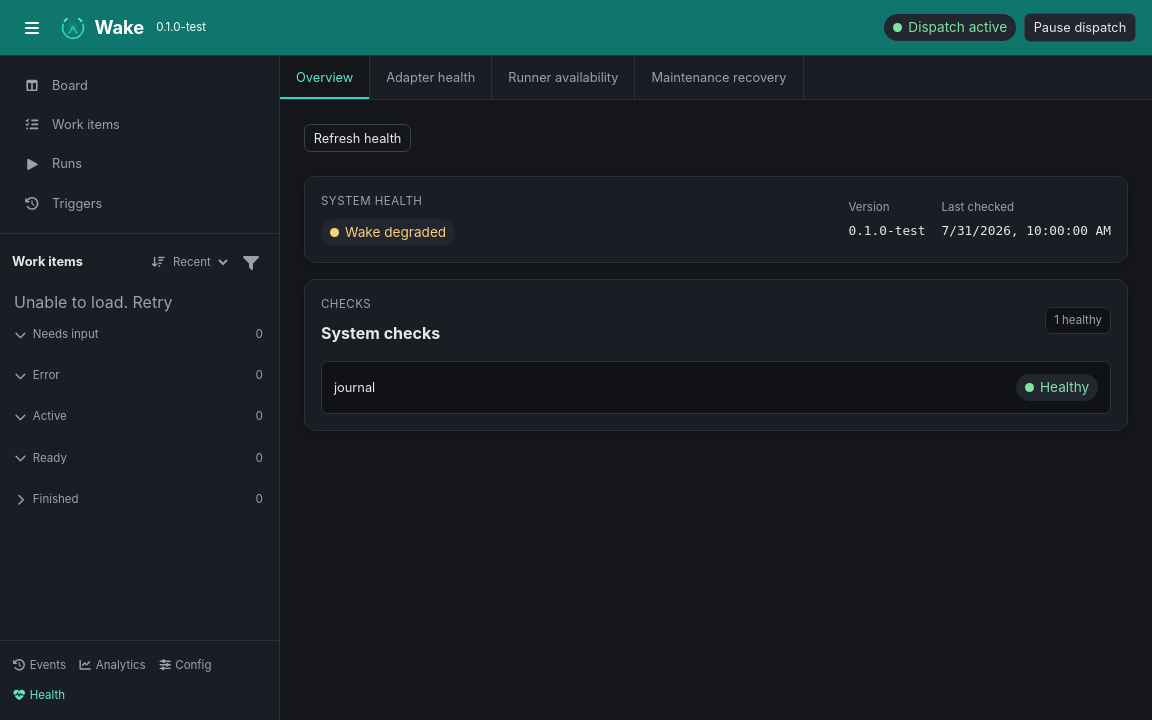
it: adapter health table › renders one row per adapter health check, separate from the generic checks list
Check: the heading "System checks" is shown, box left=321, top=321, right=440, bottom=345
Check: the text "journal" is shown, box left=334, top=378, right=375, bottom=397
Click the tab "Adapter health". click: click(431, 78)
box: left=370, top=56, right=492, bottom=99
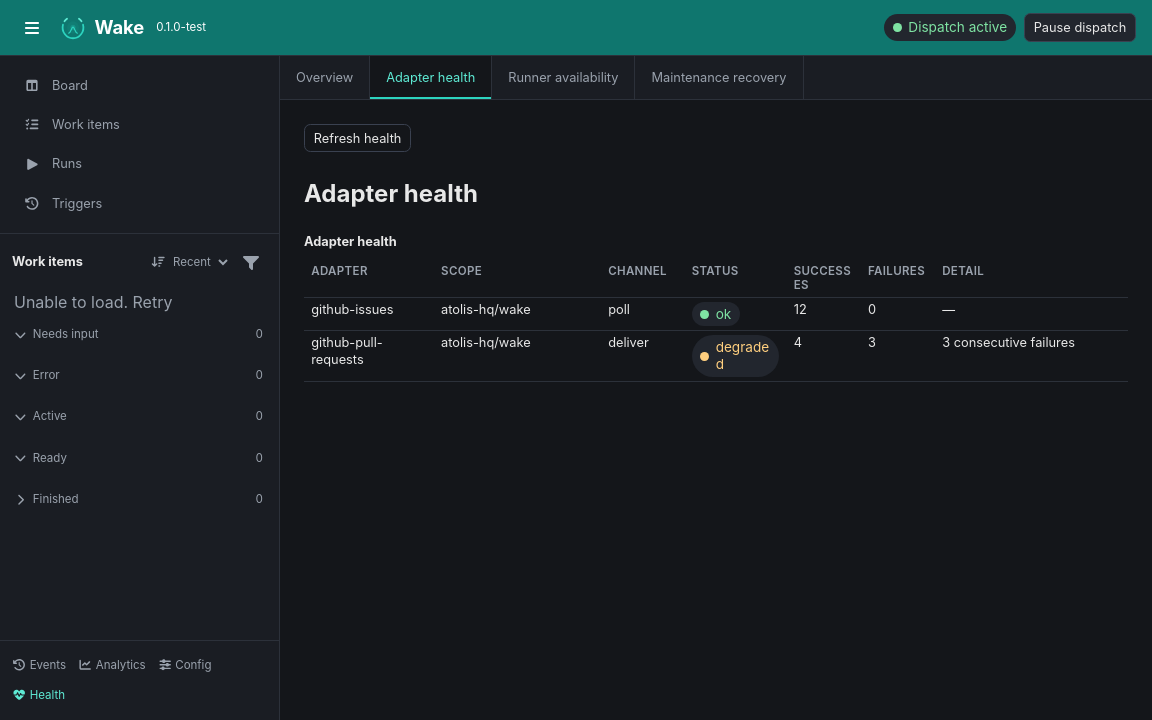
Check: the number of rows is 3, box left=304, top=260, right=1128, bottom=298; left=304, top=298, right=1128, bottom=331; left=304, top=331, right=1128, bottom=382
Check: the text "github-issues" is shown, box left=311, top=302, right=394, bottom=317
Check: the text "atolis-hq/wake" is shown 2 times, box left=441, top=302, right=531, bottom=317; left=441, top=336, right=531, bottom=350
